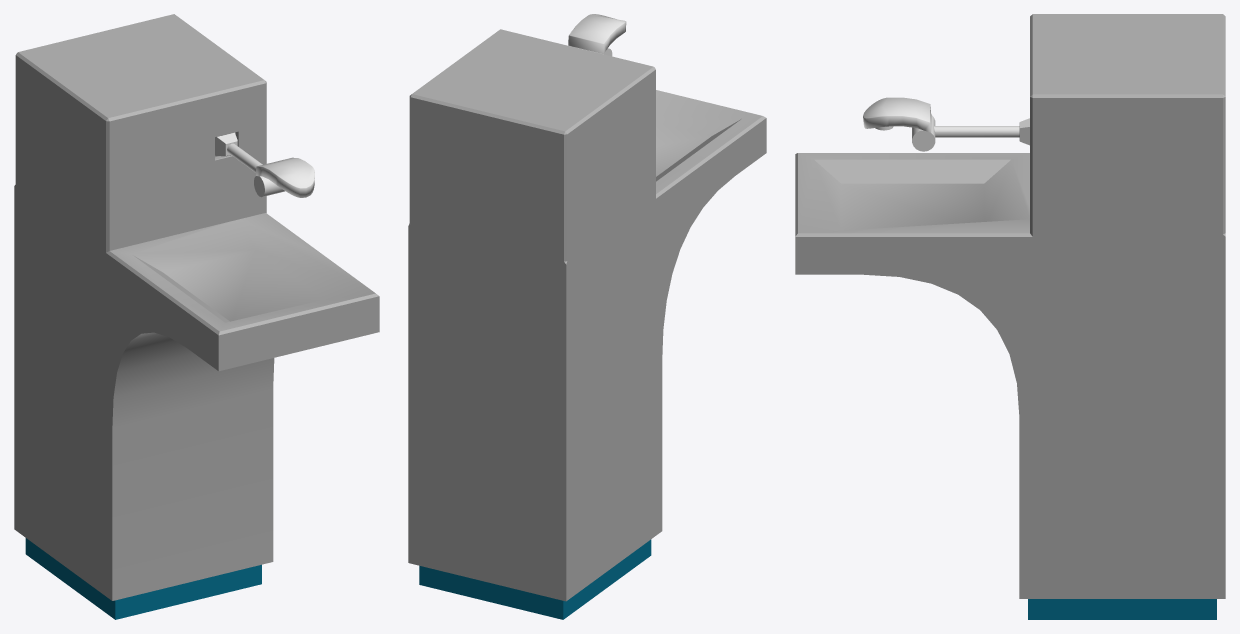
File: drinking fountain.fbx
The picture shows the model from 3 angles, left to right: view 1: azimuth 30°, elevation 25°; view 2: azimuth 150°, elevation 25°; view 3: azimuth 270°, elevation 25°; orthographic projection. The views are drawn at different scales.
Parts seen in each view (by area): view 1: body, fauset; view 2: body, fauset; view 3: body, fauset.
Boxes of the visible parts, left/top/right/bottom form: body: left=14, top=14, right=379, bottom=619; fauset: left=215, top=132, right=314, bottom=197; body: left=408, top=29, right=766, bottom=619; fauset: left=568, top=14, right=626, bottom=56; body: left=795, top=14, right=1225, bottom=619; fauset: left=863, top=97, right=1029, bottom=151.
Size of the model in its own units: 0.5 by 1.49 by 1.1.
